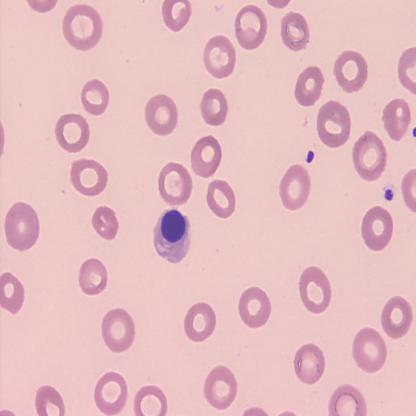NRC: (152, 207, 193, 264)
